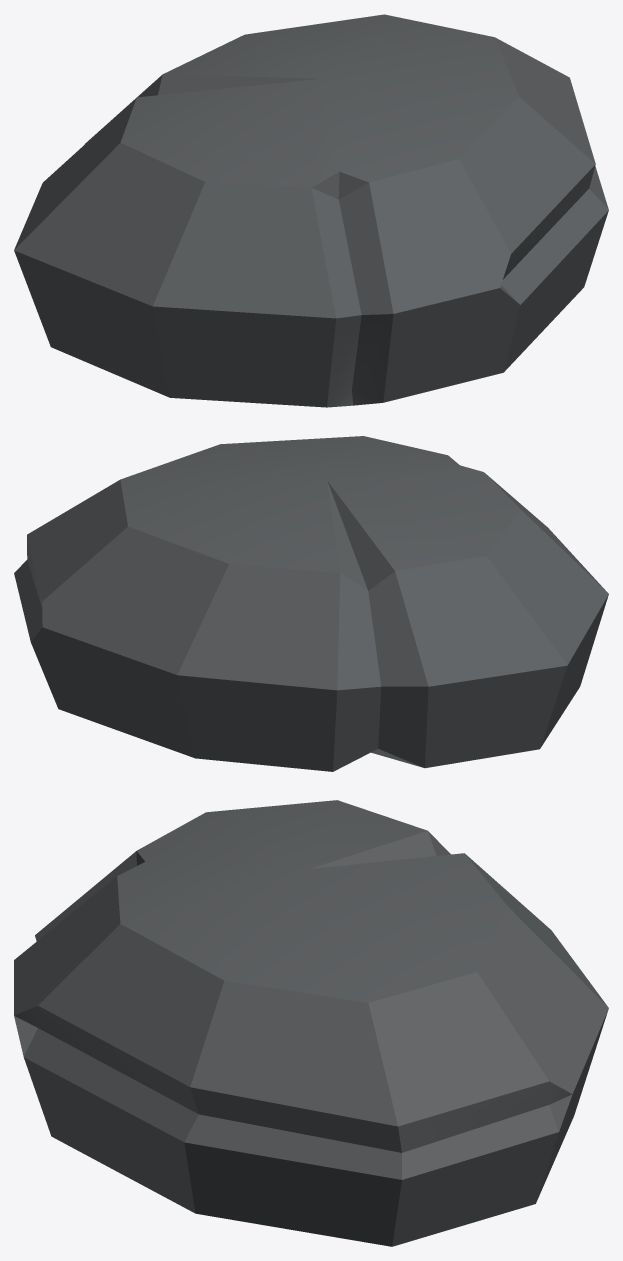
The model's file is rock_001.fbx.
3 views of the same model, one above another, from view 1: azimuth 30°, elevation 25°; view 2: azimuth 150°, elevation 25°; view 3: azimuth 270°, elevation 25° (orthographic). The views are drawn at different scales.
Parts seen in each view (by area): view 1: rock.001; view 2: rock.001; view 3: rock.001.
Part boxes in pixels (x1,y1,x2,y2): rock.001: [14, 14, 608, 407]; rock.001: [14, 436, 608, 771]; rock.001: [14, 800, 608, 1246].
Bounding box in the file's own units: 32.41 × 15.07 × 26.57.
